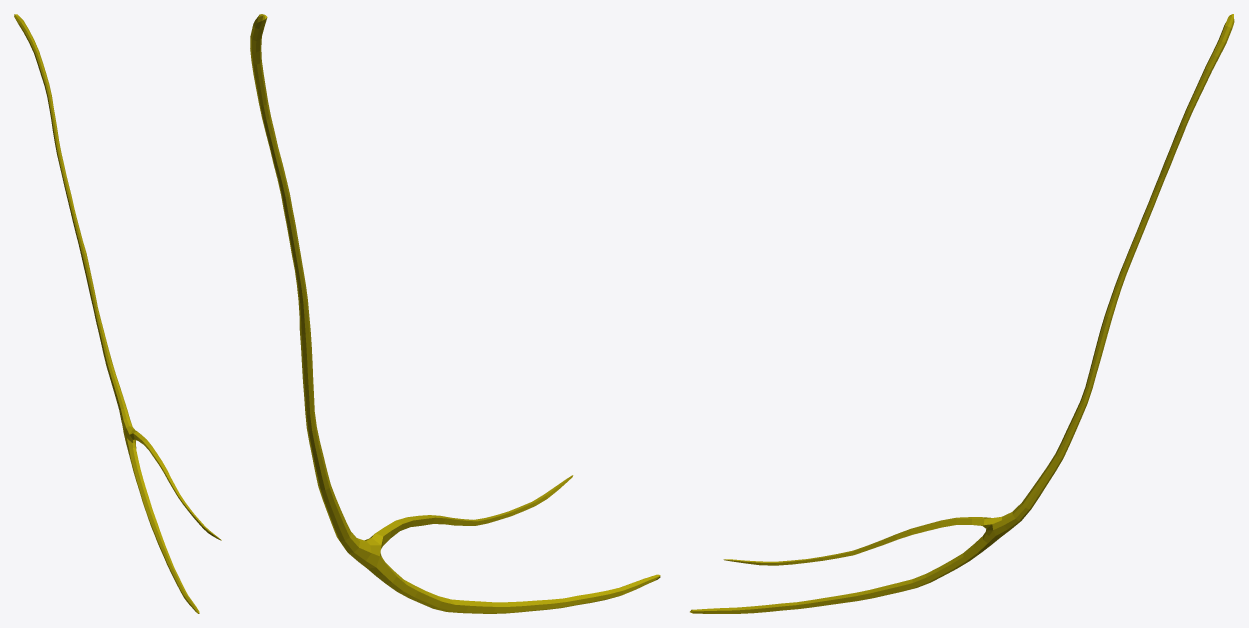
The model's file is Glossopharyngeal_nerve_L.glb.
3 renders of one model, left to right at view 1: azimuth 30°, elevation 25°; view 2: azimuth 150°, elevation 25°; view 3: azimuth 270°, elevation 25°, orthographic. The views are drawn at different scales.
Visible parts, largest first — view 1: Glossopharyngeal_nerve_L.001; view 2: Glossopharyngeal_nerve_L.001; view 3: Glossopharyngeal_nerve_L.001.
Boxes of the visible parts, x1,y1,x2,y2 form: Glossopharyngeal_nerve_L.001: (14,14,221,613); Glossopharyngeal_nerve_L.001: (250,14,660,613); Glossopharyngeal_nerve_L.001: (690,14,1234,613).
Bounding box in the file's own units: 0.0276 × 0.2248 × 0.182.
Materials: 1 (1 with a texture image).
